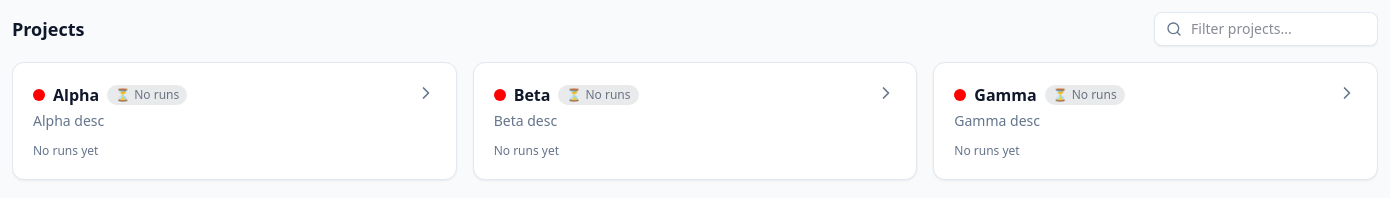
ProjectCards › filters projects by name
Note: Type in filter
Type "bet" into the field with placeholder "Filter projects...". click: (1266, 29)
box: [1154,12,1378,46]
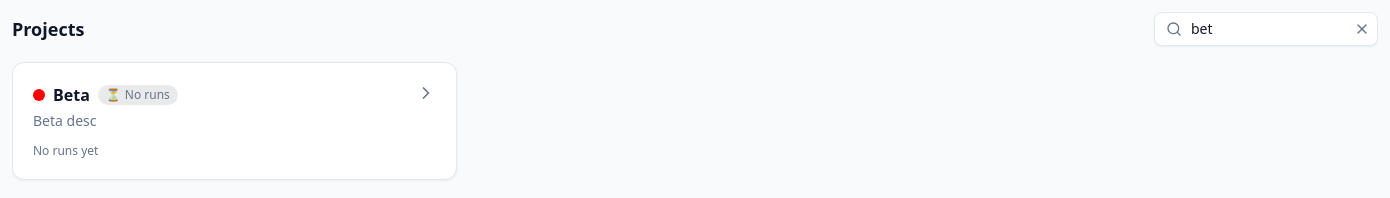
Expected: the heading "Beta" is shown, [53,83,90,107]
Expected: the link "Alpha" is gone
Expected: the link "Gamma" is gone
